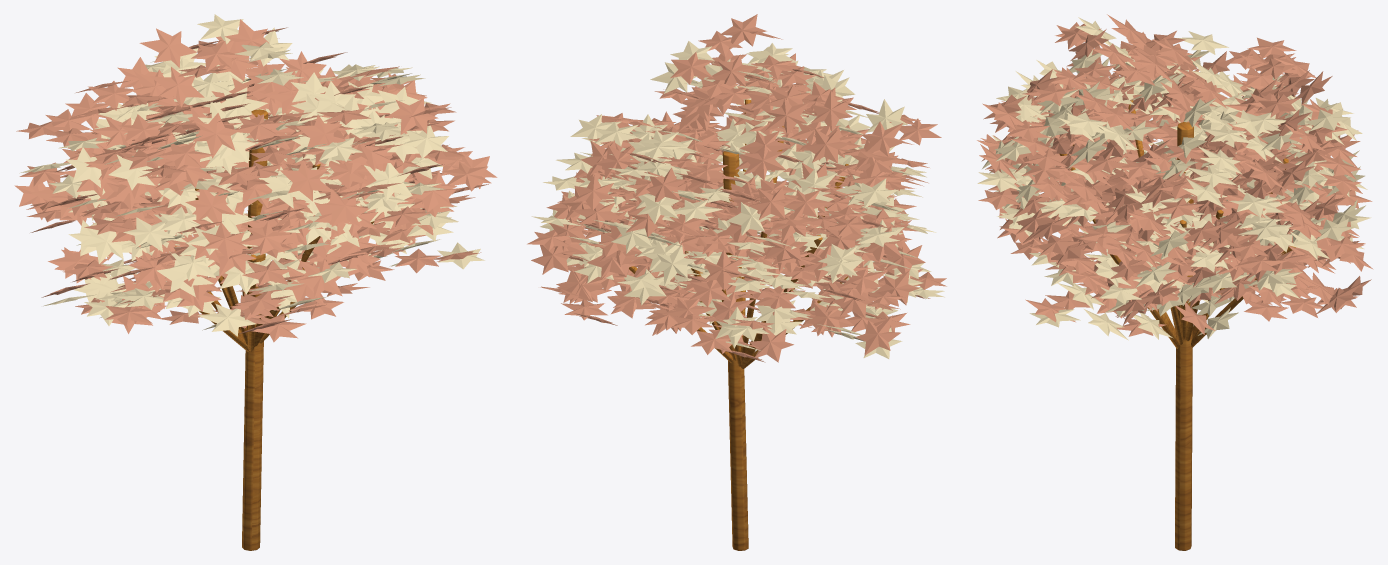
The model's file is maple-tree.glb.
The picture shows the model from 3 angles, left to right: view 1: azimuth 30°, elevation 25°; view 2: azimuth 150°, elevation 25°; view 3: azimuth 270°, elevation 25°; orthographic projection. The views are drawn at different scales.
Visible parts, largest first — view 1: maple-tree; view 2: maple-tree; view 3: maple-tree.
Boxes of the visible parts, left/top/right/bottom form: maple-tree: left=14, top=14, right=497, bottom=550; maple-tree: left=527, top=14, right=946, bottom=550; maple-tree: left=977, top=14, right=1373, bottom=550.
Size of the model in its own units: 3.5 by 4.3 by 3.2.
Materials: 3 (2 with a texture image).
